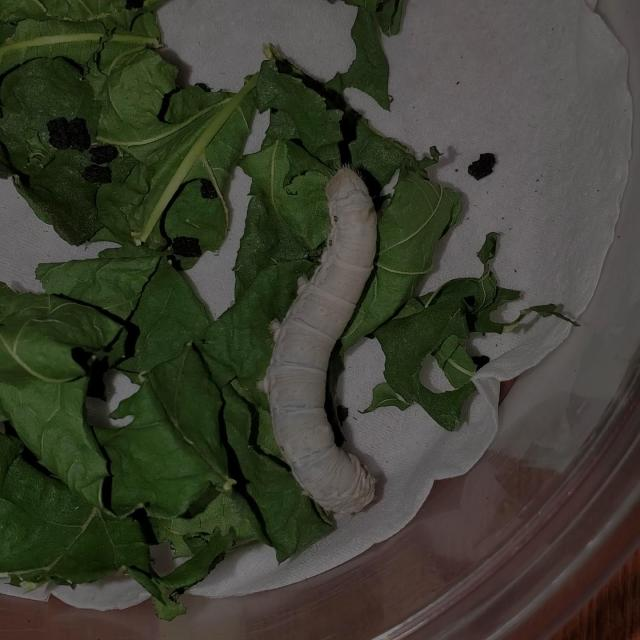Healthy: (228, 139, 436, 533)
